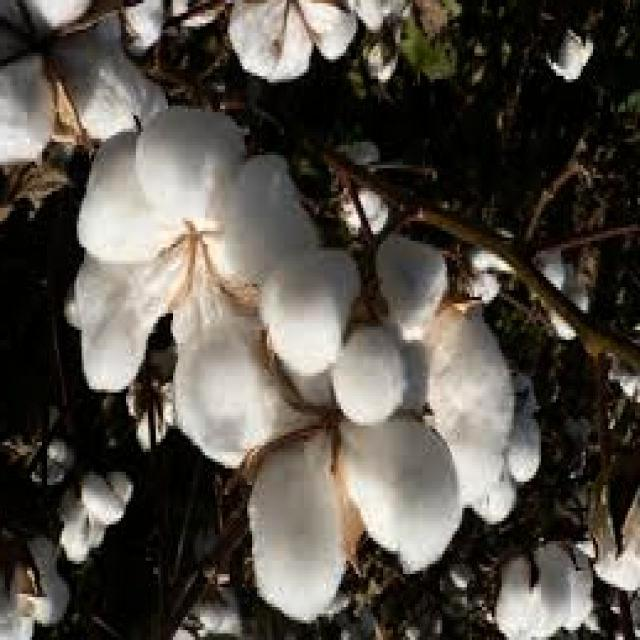Matured Cotton Boll: (191, 248, 479, 604), (65, 118, 323, 396), (2, 0, 170, 172), (221, 0, 356, 87), (486, 545, 600, 639), (54, 462, 135, 570), (0, 546, 75, 640), (597, 467, 639, 595)
